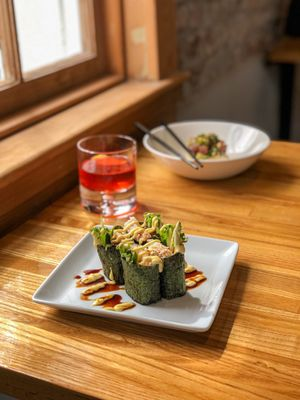pizza: (76, 134, 138, 217)
sushi: (137, 121, 271, 181)
